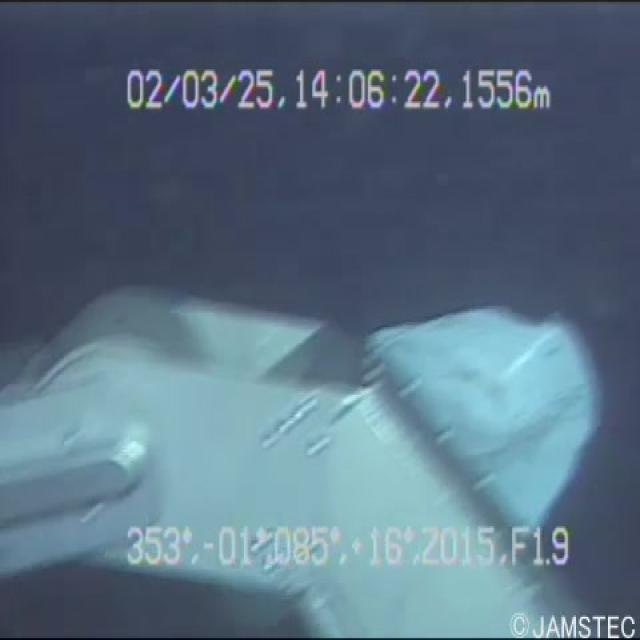plastic: (352, 267, 605, 551)
